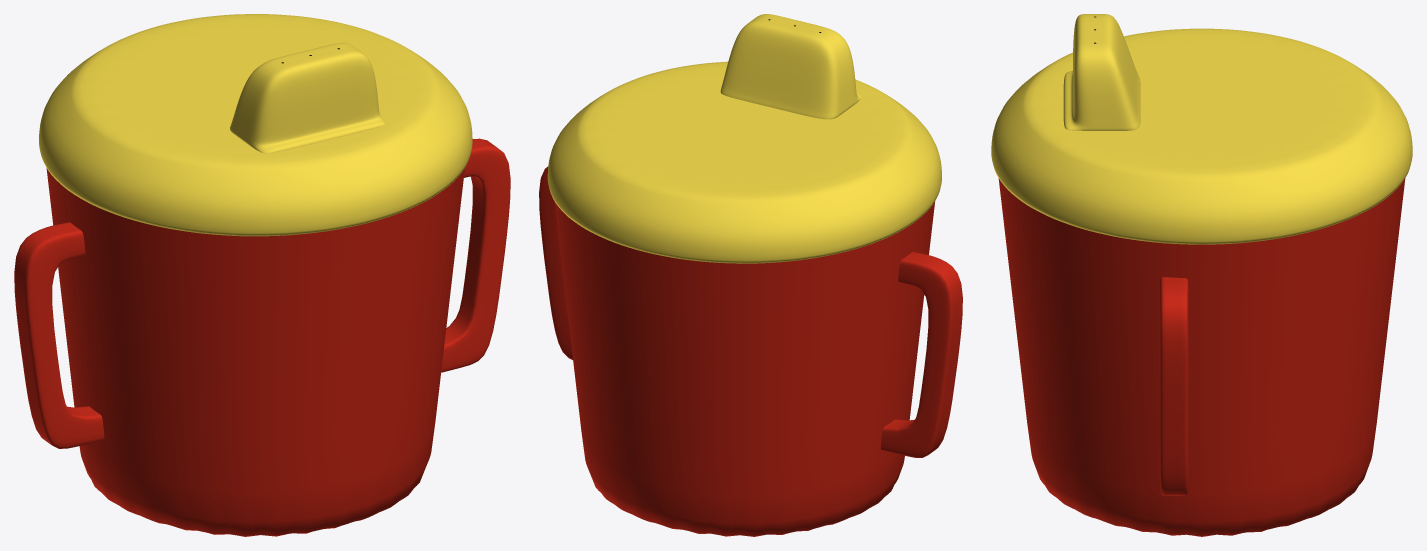
Rendered from sippy_cup.glb.
3 views of the same model, side by side, from view 1: azimuth 30°, elevation 25°; view 2: azimuth 150°, elevation 25°; view 3: azimuth 270°, elevation 25° (orthographic). The views are drawn at different scales.
Visible parts, largest first — view 1: Cylinder_3, Cylinder.001_2; view 2: Cylinder_3, Cylinder.001_2; view 3: Cylinder_3, Cylinder.001_2.
Part boxes in pixels (x1,y1,x2,y2): Cylinder_3: (14, 138, 510, 536); Cylinder.001_2: (39, 14, 472, 236); Cylinder_3: (539, 166, 962, 536); Cylinder.001_2: (547, 14, 941, 263); Cylinder_3: (998, 178, 1405, 536); Cylinder.001_2: (991, 14, 1412, 244).
Bounding box in the file's own units: 3.01 × 2.79 × 2.41.
